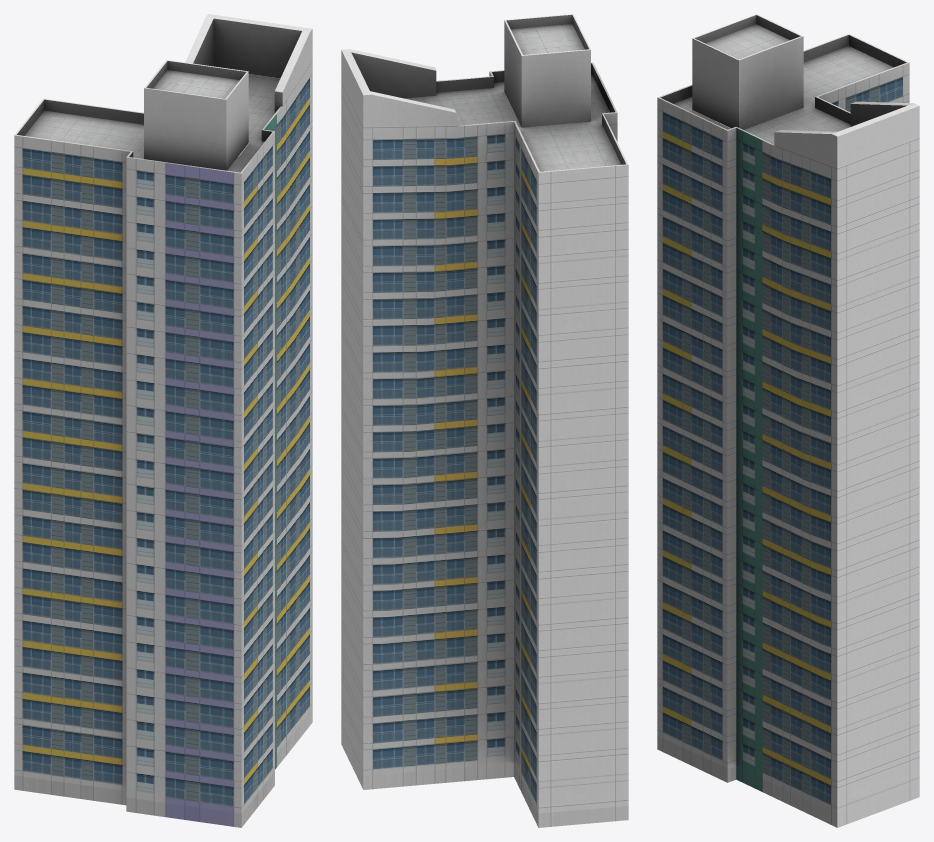
3 views of the same model, side by side, from view 1: azimuth 30°, elevation 25°; view 2: azimuth 150°, elevation 25°; view 3: azimuth 270°, elevation 25° (orthographic).
Parts seen in each view (by area): view 1: a_bd003; view 2: a_bd003; view 3: a_bd003.
Boxes of the visible parts, x1,y1,x2,y2 form: a_bd003: (14, 14, 312, 827); a_bd003: (341, 14, 628, 827); a_bd003: (657, 14, 919, 827).
Size of the model in its own units: 38.69 by 30.12 by 90.32.
1 material, 1 textured.
